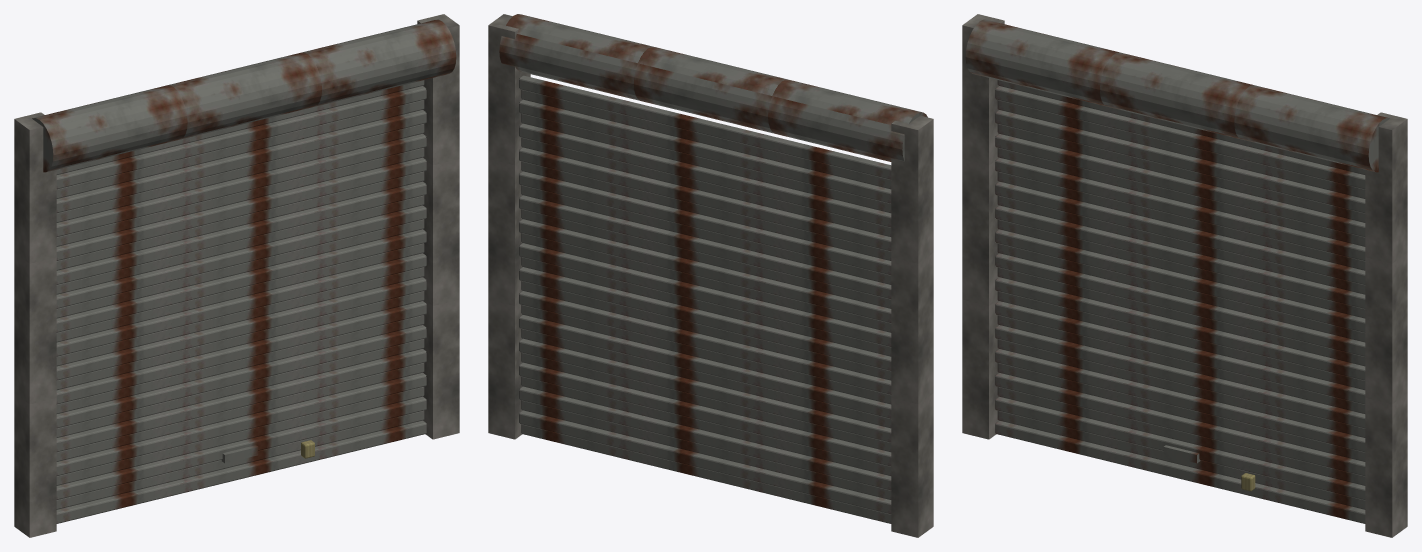
The model's file is ST21_GarageShutter.glb.
3 views of the same model, side by side, from view 1: azimuth 30°, elevation 25°; view 2: azimuth 150°, elevation 25°; view 3: azimuth 330°, elevation 25° (orthographic).
Visible parts, largest first — view 1: ST21_GarageShutter; view 2: ST21_GarageShutter; view 3: ST21_GarageShutter.
Part boxes in pixels (x1,y1,x2,y2): ST21_GarageShutter: [14, 14, 459, 537]; ST21_GarageShutter: [488, 14, 933, 537]; ST21_GarageShutter: [962, 14, 1407, 537].
Size of the model in its own units: 3 by 2.75 by 0.3375.
3 materials, 3 textured.
